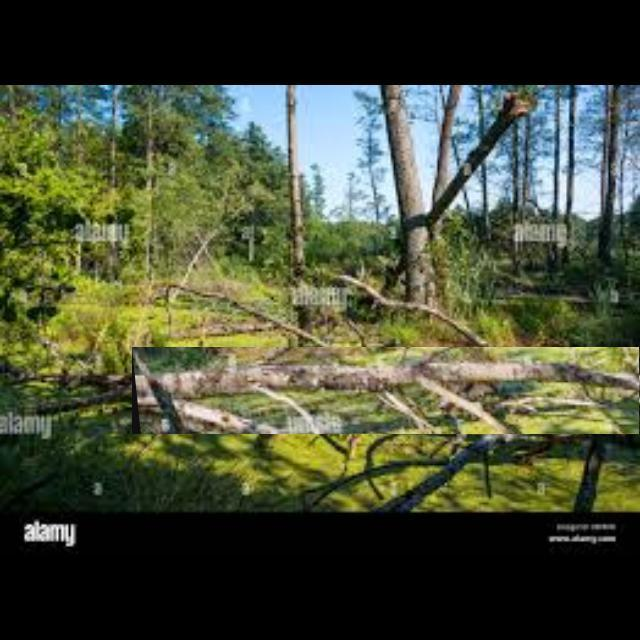fallen_tree: (132, 347, 640, 435)
